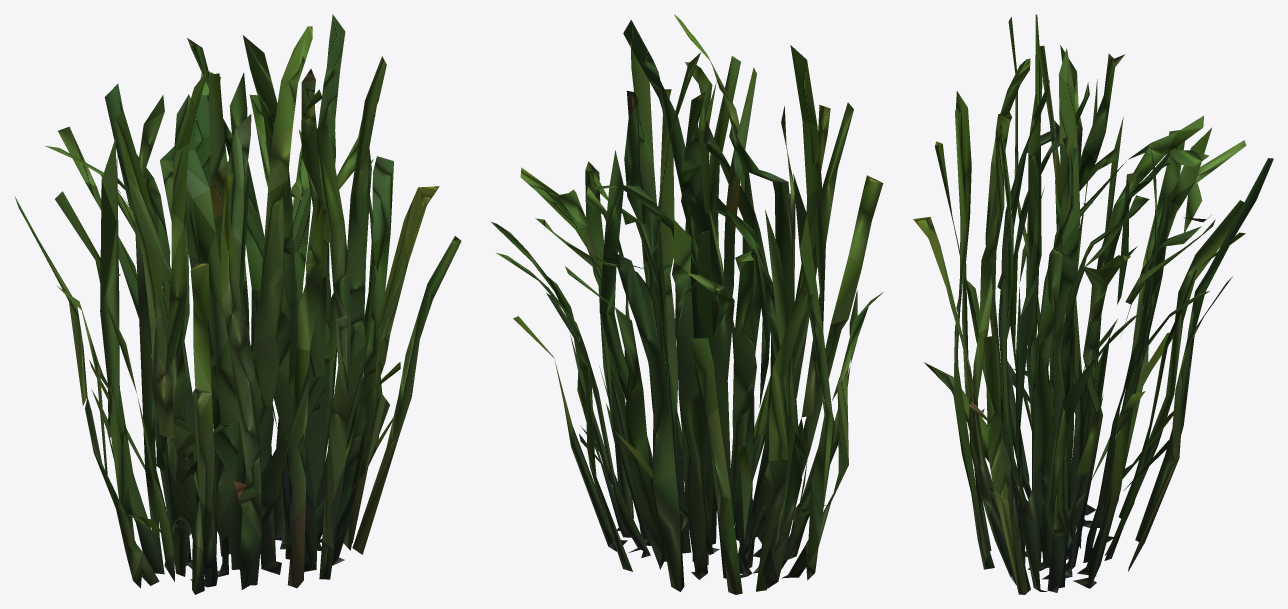
Rendered from grass.glb.
The picture shows the model from 3 angles, left to right: view 1: azimuth 30°, elevation 25°; view 2: azimuth 150°, elevation 25°; view 3: azimuth 270°, elevation 25°; orthographic projection. The views are drawn at different scales.
Visible parts, largest first — view 1: geometry_0; view 2: geometry_0; view 3: geometry_0.
Boxes of the visible parts, x1,y1,x2,y2 form: geometry_0: [14, 14, 461, 594]; geometry_0: [491, 14, 883, 594]; geometry_0: [913, 14, 1273, 594].
Size of the model in its own units: 0.08 by 0.11 by 0.07.
Materials: 1 (1 with a texture image).
